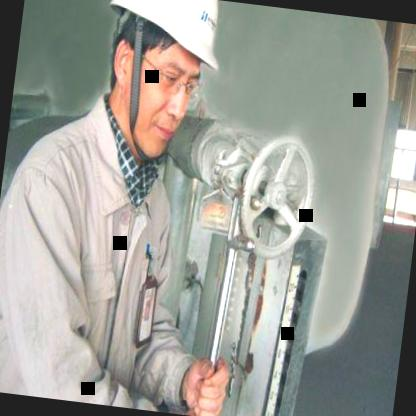helmet: (79, 0, 232, 168)
